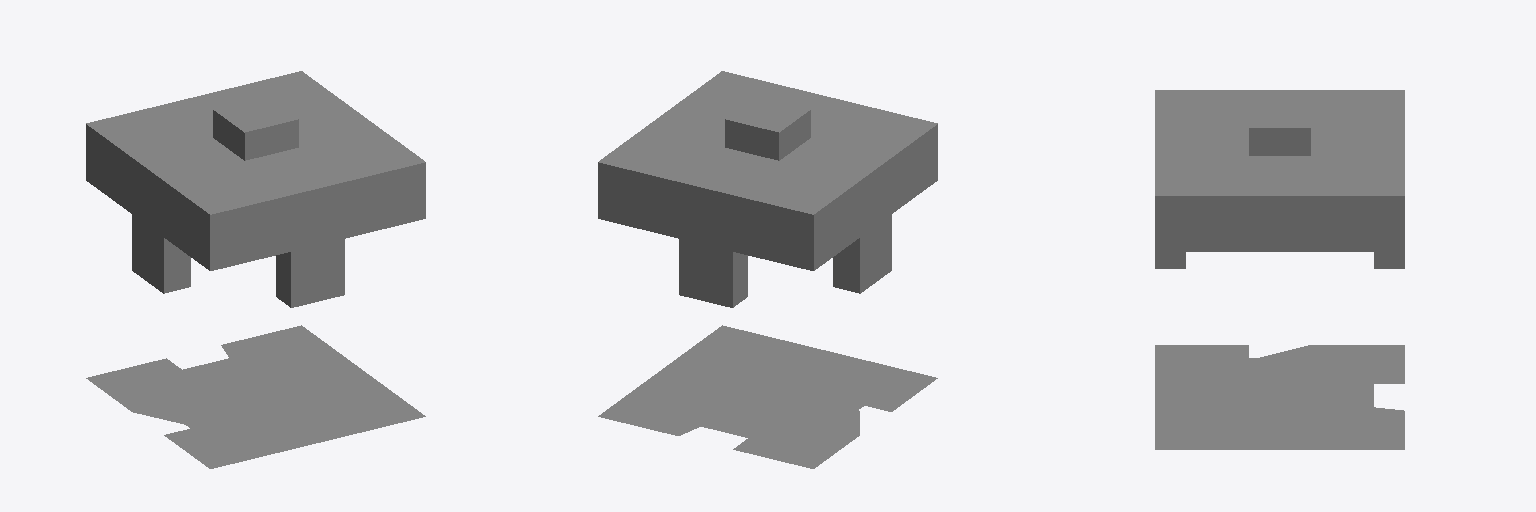
The model's file is rune_molder_press.obj.
The picture shows the model from 3 angles: view 1: azimuth 30°, elevation 25°; view 2: azimuth 150°, elevation 25°; view 3: azimuth 270°, elevation 25°; orthographic projection.
Parts seen in each view (by area): view 1: table; view 2: table; view 3: table.
Part boxes in pixels (x1,y1,x2,y2): table: (86,71,425,468); table: (598,71,937,468); table: (1155,90,1404,449).
Size of the model in its own units: 1 by 1.25 by 1.